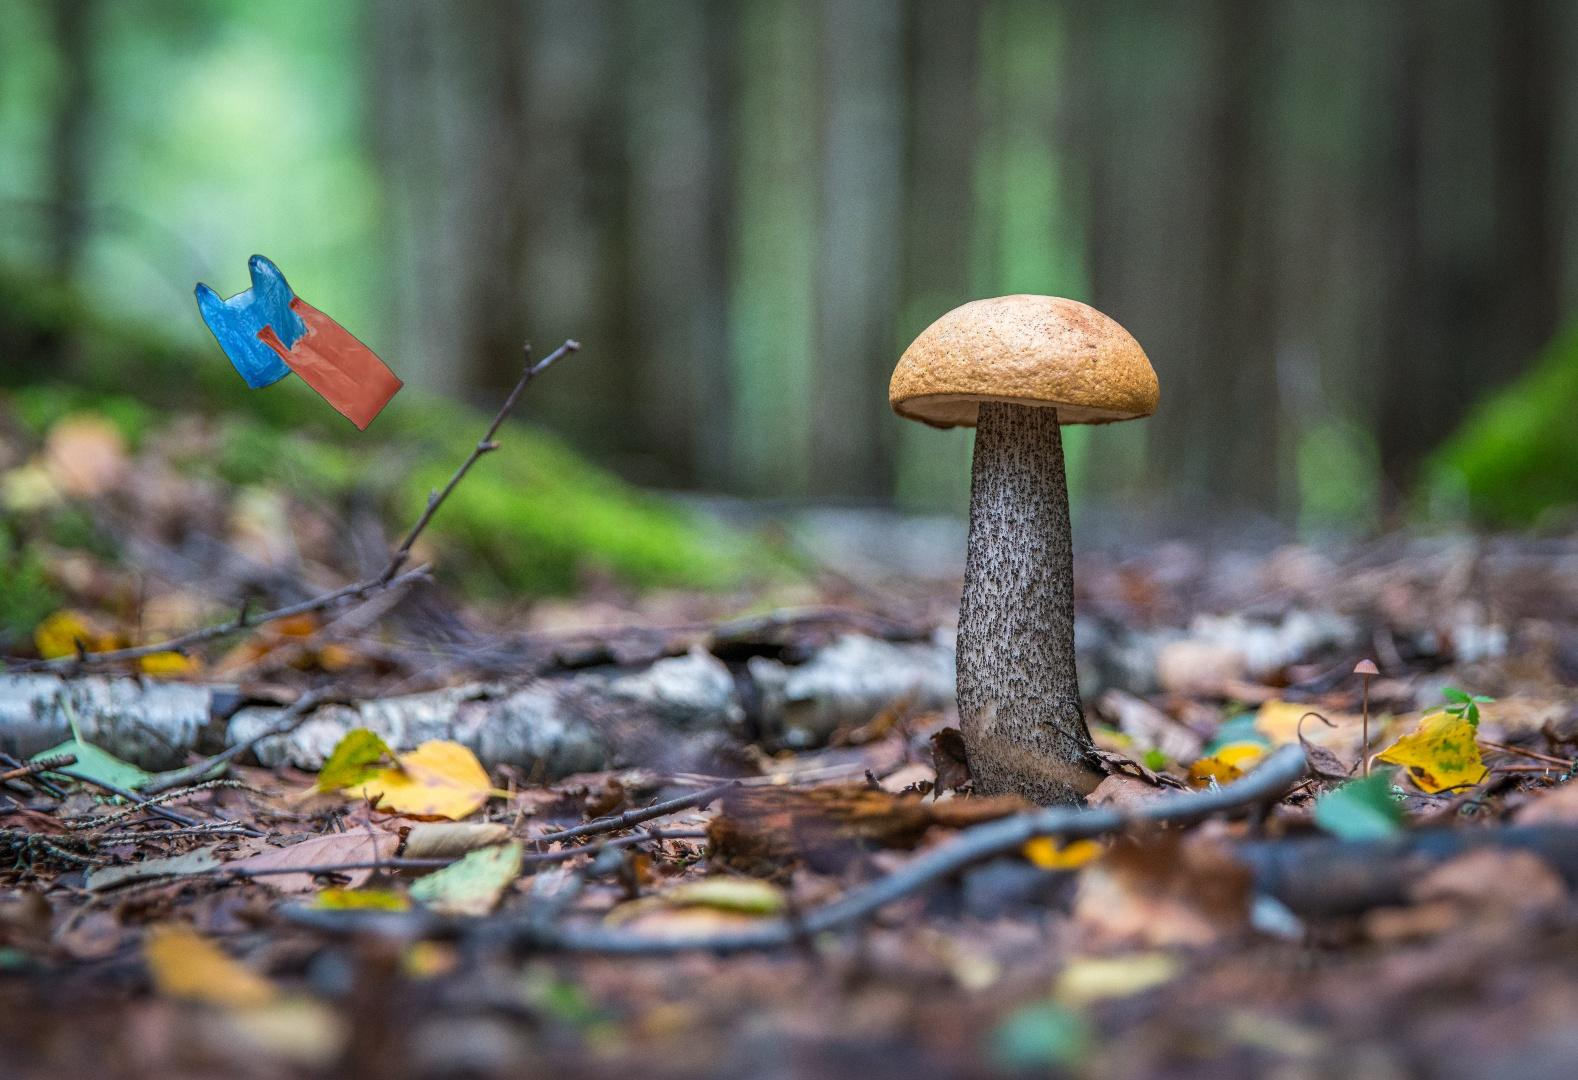plastic-bag: (191, 253, 406, 434)
